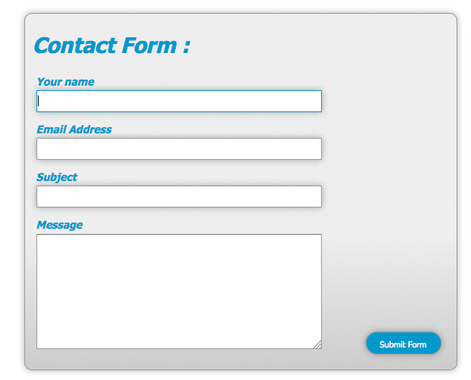_form_: (28, 1, 444, 380)
button: (367, 331, 441, 355)
field: (35, 232, 323, 351), (35, 135, 323, 162), (35, 183, 323, 210), (35, 88, 323, 114)
field_with_label: (34, 220, 325, 353), (33, 124, 325, 164), (34, 76, 325, 116), (33, 172, 325, 211)
